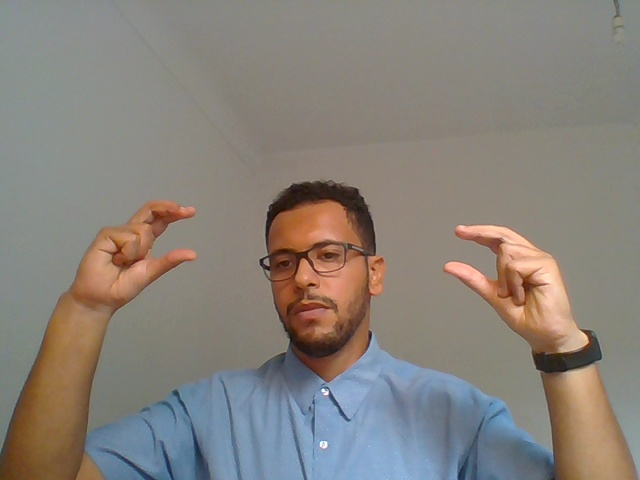no: (420, 195, 613, 429), (37, 171, 206, 391)
